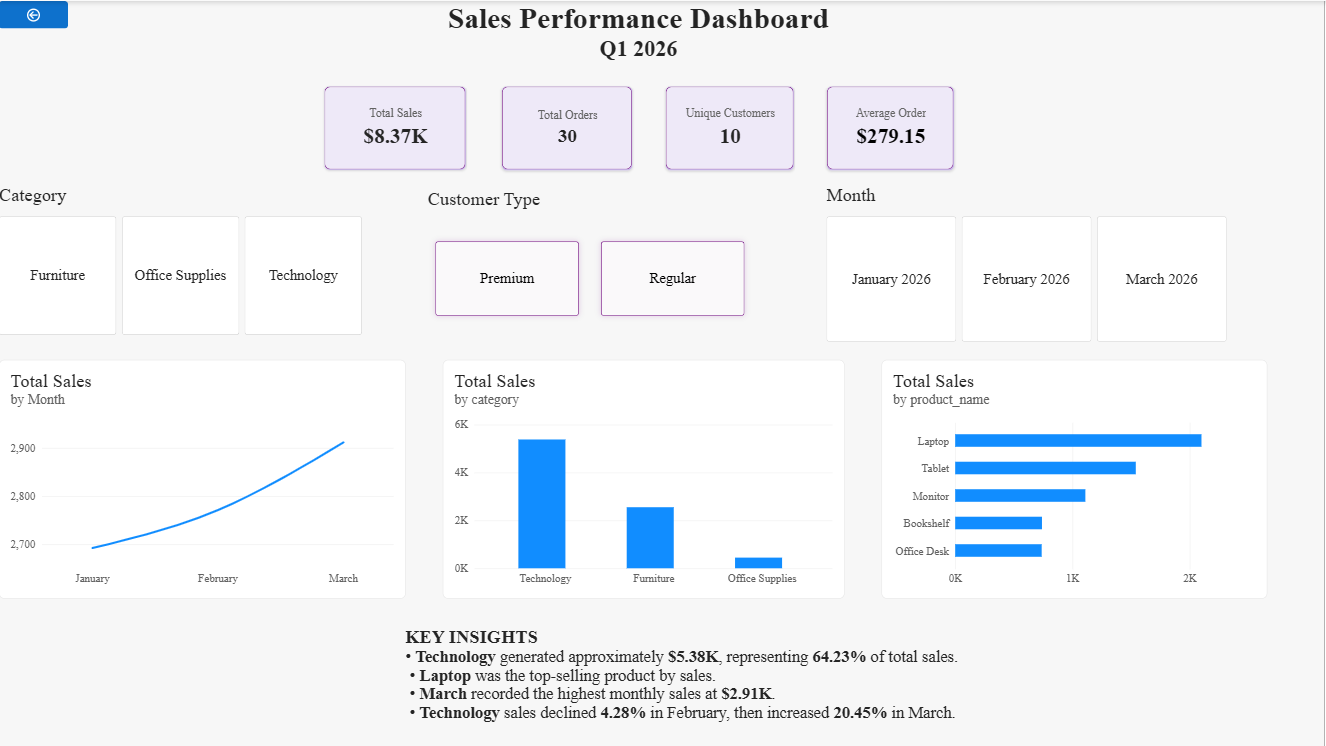

The page's visual inventory and layout, read from the dashboard file:
{"tool":"powerbi","page":{"name":"Sales Performance Dashboard","canvas":[1920,1080],"ordinal":0},"visuals":[{"type":"cardVisual","fields":{"Data":["public orders.Total Sales"]},"box":[471.4,123.7,206.2,122.5],"z":0},{"type":"cardVisual","fields":{"Data":["public orders.Total Orders"]},"box":[728.9,123.7,190,122.9],"z":1000},{"type":"cardVisual","fields":{"Data":["public customers.Unique Customer"]},"box":[965.6,123.7,187.1,122.9],"z":2000},{"type":"cardVisual","fields":{"Data":["public orders.Average Order"]},"box":[1199.4,123.7,185.7,122.9],"z":3000},{"type":"clusteredColumnChart","fields":{"Category":["public products.category"],"Y":["public orders.Total Sales"]},"box":[642.9,519.6,582.1,346.4],"z":4000},{"type":"advancedSlicerVisual","title":"Customer Type","fields":{"Values":["public customers.customer_type"]},"box":[621.4,271.4,471.4,216.1],"z":5000},{"type":"advancedSlicerVisual","title":"Category","fields":{"Values":["public products.category"]},"box":[0,266.1,526.8,217.9],"z":6000},{"type":"advancedSlicerVisual","title":"Month","fields":{"Values":["DateTable.Month Year"]},"box":[1200,266.1,582.1,228.6],"z":7000},{"type":"textbox","box":[642.4,0,567.5,93.8],"z":8000},{"type":"actionButton","box":[0,0,100,40],"z":9000},{"type":"textbox","box":[589.3,905.4,816.1,175],"z":10000},{"type":"lineChart","fields":{"Category":["DateTable.Date.Variation.Date Hierarchy.Month"],"Y":["public orders.Total Sales"]},"box":[0,519.6,589.3,346.4],"z":11000},{"type":"barChart","fields":{"Category":["public products.product_name"],"Y":["public orders.Total Sales"]},"box":[1278.6,519.6,558.9,346.4],"z":12000}]}

Visuals, with their boxes in screenshot pixels (x1, y1, x2, y2), scaled from the page's 1920x1080 canvas onto the 1326x746 screenshot:
cardVisual - public orders.Total Sales: (left=326, top=85, right=468, bottom=170)
cardVisual - public orders.Total Orders: (left=503, top=85, right=635, bottom=170)
cardVisual - public customers.Unique Customer: (left=667, top=85, right=796, bottom=170)
cardVisual - public orders.Average Order: (left=828, top=85, right=957, bottom=170)
clusteredColumnChart - public products.category x public orders.Total Sales: (left=444, top=359, right=846, bottom=598)
"Customer Type" advancedSlicerVisual: (left=429, top=187, right=755, bottom=337)
"Category" advancedSlicerVisual: (left=0, top=184, right=364, bottom=334)
"Month" advancedSlicerVisual: (left=829, top=184, right=1231, bottom=342)
textbox: (left=444, top=0, right=836, bottom=65)
actionButton: (left=0, top=0, right=69, bottom=28)
textbox: (left=407, top=625, right=971, bottom=745)
lineChart - DateTable.Date.Variation.Date Hierarchy.Month x public orders.Total Sales: (left=0, top=359, right=407, bottom=598)
barChart - public products.product_name x public orders.Total Sales: (left=883, top=359, right=1269, bottom=598)
